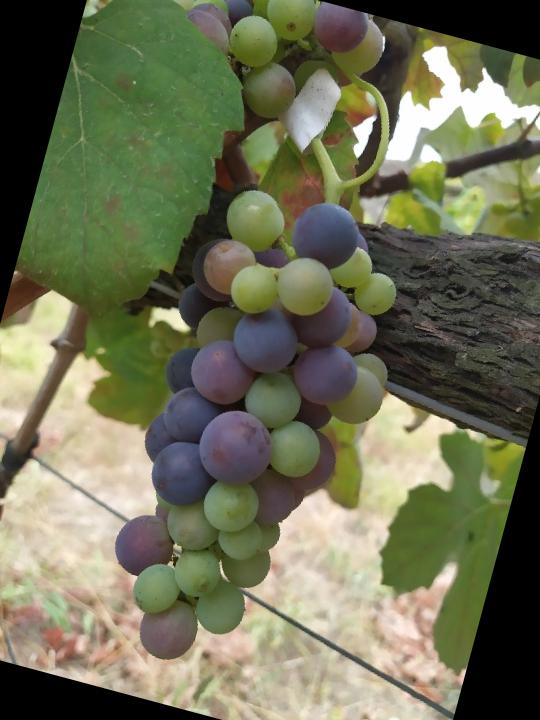grape: (84, 167, 433, 702)
